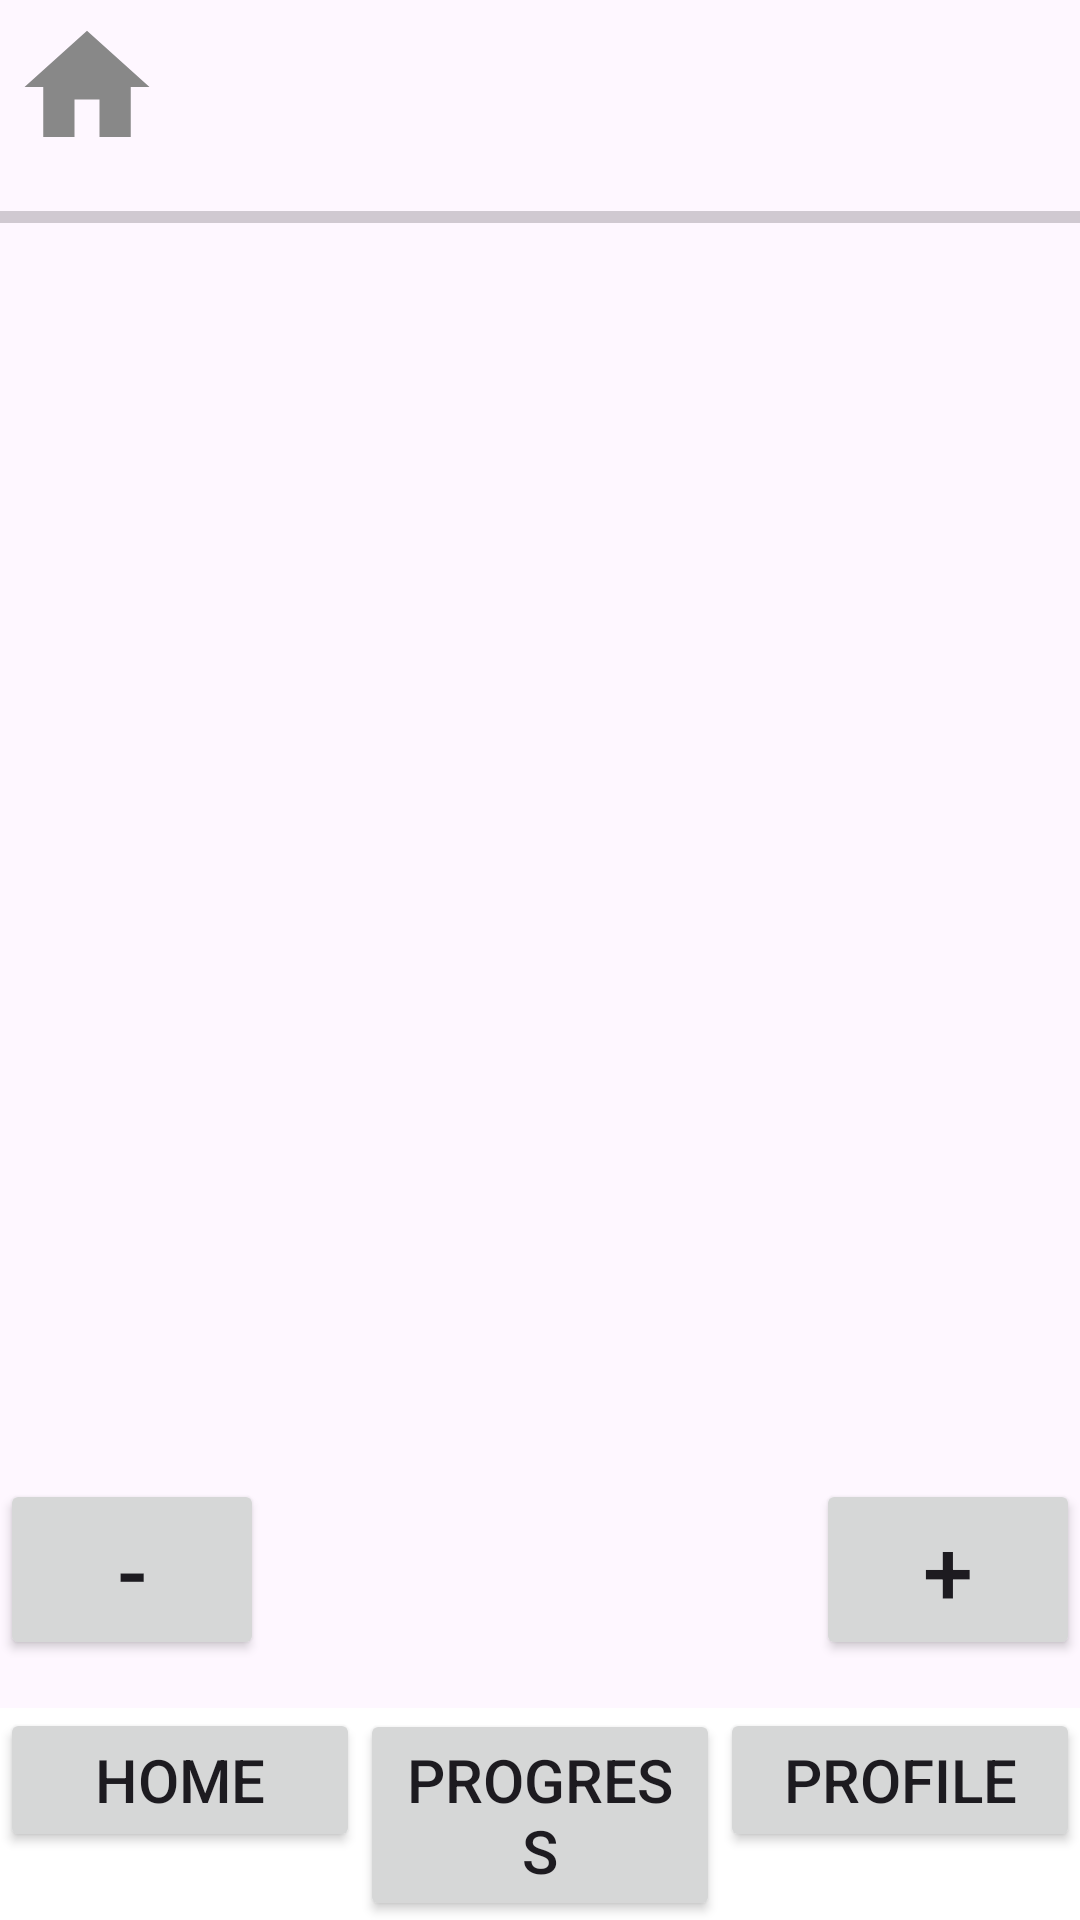

Icons on this 1080 × 1920 Android screen, each with the point to tap as point (x, y):
Home Icon: point (87, 84)
